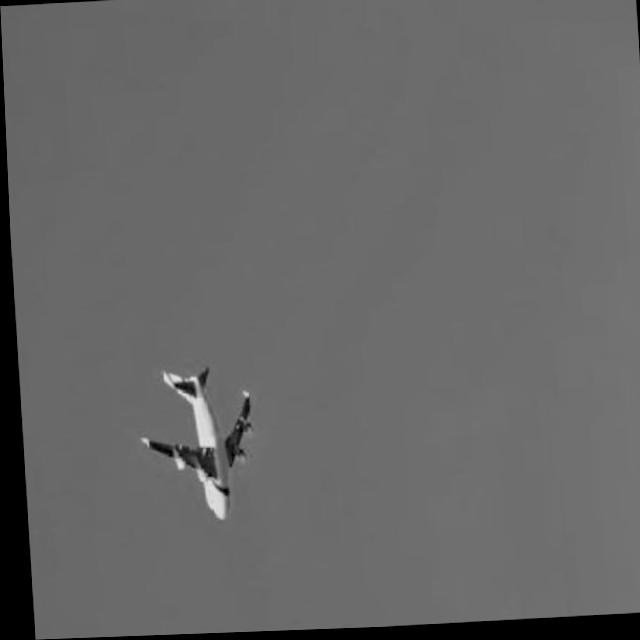aeroplane: (121, 355, 269, 526)
